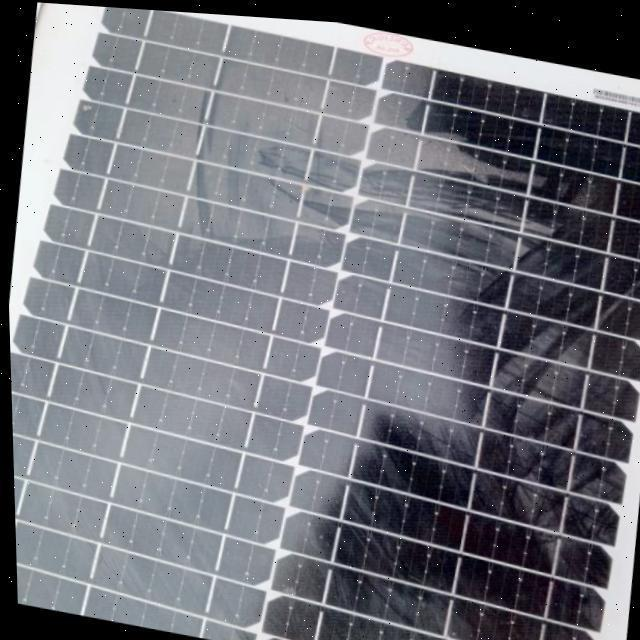Surface Contaminant: (10, 3, 541, 640)
